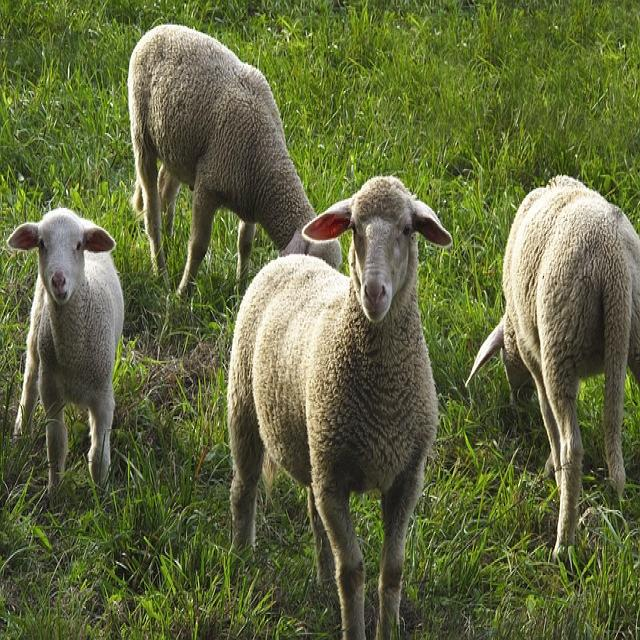goat: (226, 176, 453, 640), (473, 176, 640, 559), (126, 25, 316, 298), (7, 208, 126, 498)
